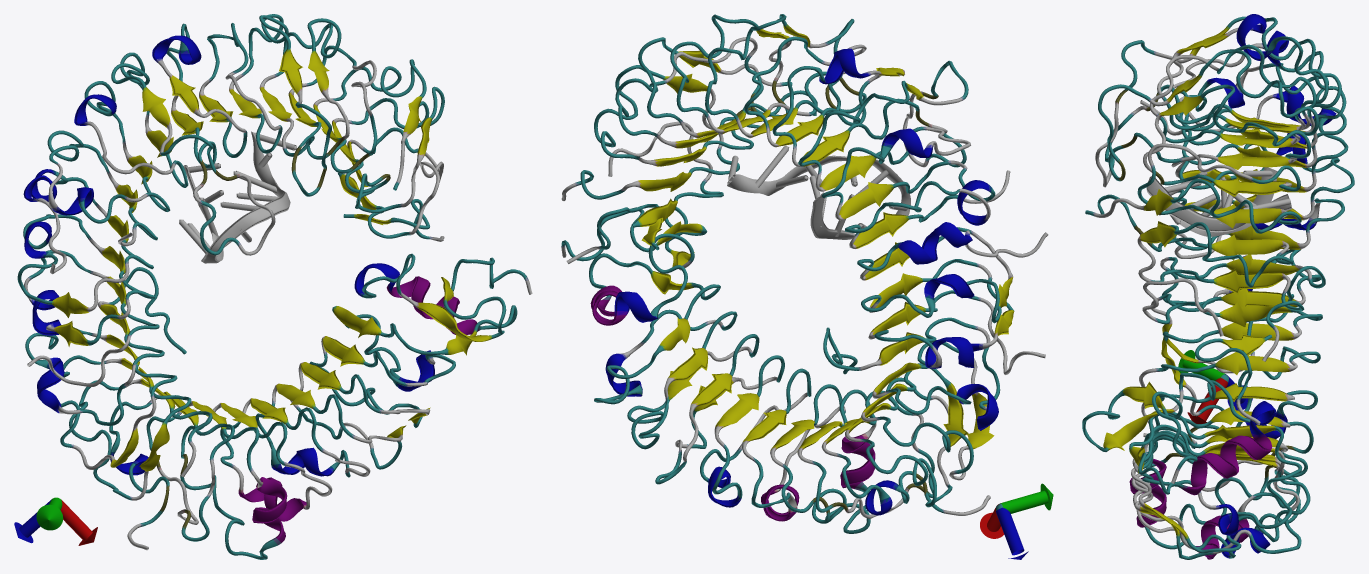
Rendered from 3wpg.obj.
3 views of the same model, side by side, from view 1: azimuth 30°, elevation 25°; view 2: azimuth 150°, elevation 25°; view 3: azimuth 270°, elevation 25° (orthographic). The views are drawn at different scales.
Visible parts, largest first — view 1: vmd_mol2_rep0, vmd_axes; view 2: vmd_mol2_rep0, vmd_axes; view 3: vmd_mol2_rep0, vmd_axes.
Part boxes in pixels (bbox=[...]): vmd_mol2_rep0: bbox=[17, 14, 532, 559]; vmd_axes: bbox=[14, 497, 97, 545]; vmd_mol2_rep0: bbox=[561, 14, 1048, 533]; vmd_axes: bbox=[980, 483, 1053, 559]; vmd_mol2_rep0: bbox=[1082, 14, 1354, 559]; vmd_axes: bbox=[1178, 350, 1252, 423].
Size of the model in its own units: 2.6 by 2.59 by 1.24.
